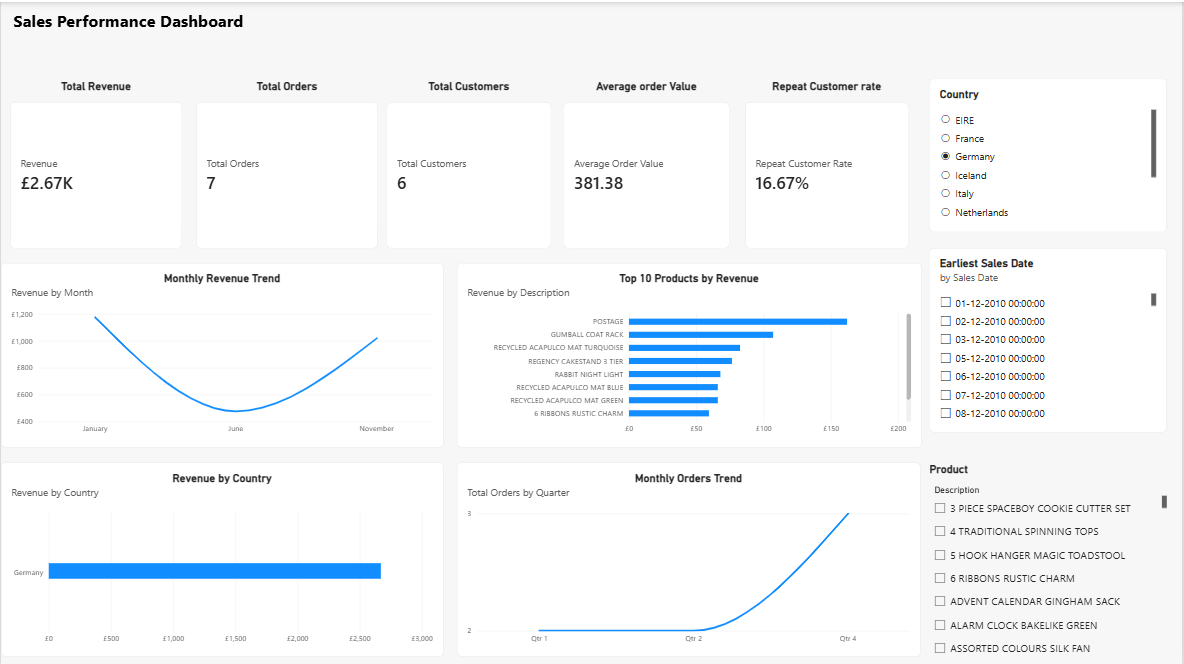

The dashboard page shown, as its layout file describes it:
{"tool":"powerbi","page":{"name":"Sales Performance Dashboard","canvas":[1920,1080],"ordinal":0},"visuals":[{"type":"cardVisual","title":"Total Revenue","fields":{"Data":["online_retail_clean.Revenue"]},"box":[14,126,280,274],"z":0},{"type":"cardVisual","title":"Total Orders","fields":{"Data":["online_retail_clean.Total Orders"]},"box":[316,126,296,274],"z":1000},{"type":"cardVisual","title":"Total Customers","fields":{"Data":["online_retail_clean.Total Customers"]},"box":[626,126,268,274],"z":2000},{"type":"cardVisual","title":"Average order Value","fields":{"Data":["online_retail_clean.Average Order Value"]},"box":[916,126,270,274],"z":3000},{"type":"cardVisual","title":"Repeat Customer rate","fields":{"Data":["online_retail_clean.Repeat Customer Rate"]},"box":[1210,126,266,274],"z":4000},{"type":"lineChart","title":"Monthly Revenue Trend","fields":{"Category":["online_retail_clean.InvoiceDate.Variation.Date Hierarchy.Year","online_retail_clean.InvoiceDate.Variation.Date Hierarchy.Month"],"Y":["online_retail_clean.Revenue"]},"box":[0,424,720,300],"z":5000},{"type":"clusteredBarChart","title":"Top 10 Products by Revenue","fields":{"Category":["online_retail_clean.Description"],"Y":["online_retail_clean.Revenue"]},"box":[742,424,756,300],"z":6000},{"type":"clusteredBarChart","title":"Revenue by Country","fields":{"Category":["online_retail_clean.Country"],"Y":["online_retail_clean.Revenue"]},"box":[0,750,720,316],"z":7000},{"type":"lineChart","title":"Monthly Orders Trend","fields":{"Category":["online_retail_clean.InvoiceDate.Variation.Date Hierarchy.Year","online_retail_clean.InvoiceDate.Variation.Date Hierarchy.Quarter","online_retail_clean.InvoiceDate.Variation.Date Hierarchy.Month","online_retail_clean.InvoiceDate.Variation.Date Hierarchy.Day"],"Y":["online_retail_clean.Total Orders"]},"box":[742,750,754,316],"z":8000},{"type":"textbox","box":[100,100,300,300],"z":9000},{"type":"textbox","box":[100,100,300,300],"z":10000},{"type":"textbox","box":[100,100,300,300],"z":11000},{"type":"textbox","box":[14.6,12.2,385.5,53.7],"z":12000},{"type":"listSlicer","fields":{"Values":["online_retail_clean.Country"]},"box":[1510,125,386.2,250],"z":12001},{"type":"listSlicer","fields":{"Values":["online_retail_clean.Sales Date"]},"box":[1510,400,386.2,300],"z":12002},{"type":"slicer","title":"Product","fields":{"Values":["online_retail_clean.Description"]},"box":[1510,750,386.2,317.5],"z":12003}]}

Visuals, with their boxes in screenshot pixels (x1, y1, x2, y2), scaled from the page's 1920x1080 canvas onto the 1184x664 screenshot:
"Total Revenue" cardVisual: [9, 77, 181, 246]
"Total Orders" cardVisual: [195, 77, 377, 246]
"Total Customers" cardVisual: [386, 77, 551, 246]
"Average order Value" cardVisual: [565, 77, 731, 246]
"Repeat Customer rate" cardVisual: [746, 77, 910, 246]
"Monthly Revenue Trend" lineChart: [0, 261, 444, 445]
"Top 10 Products by Revenue" clusteredBarChart: [458, 261, 924, 445]
"Revenue by Country" clusteredBarChart: [0, 461, 444, 655]
"Monthly Orders Trend" lineChart: [458, 461, 923, 655]
textbox: [62, 61, 247, 246]
textbox: [62, 61, 247, 246]
textbox: [62, 61, 247, 246]
textbox: [9, 8, 247, 41]
listSlicer - online_retail_clean.Country: [931, 77, 1169, 231]
listSlicer - online_retail_clean.Sales Date: [931, 246, 1169, 430]
"Product" slicer: [931, 461, 1169, 656]
